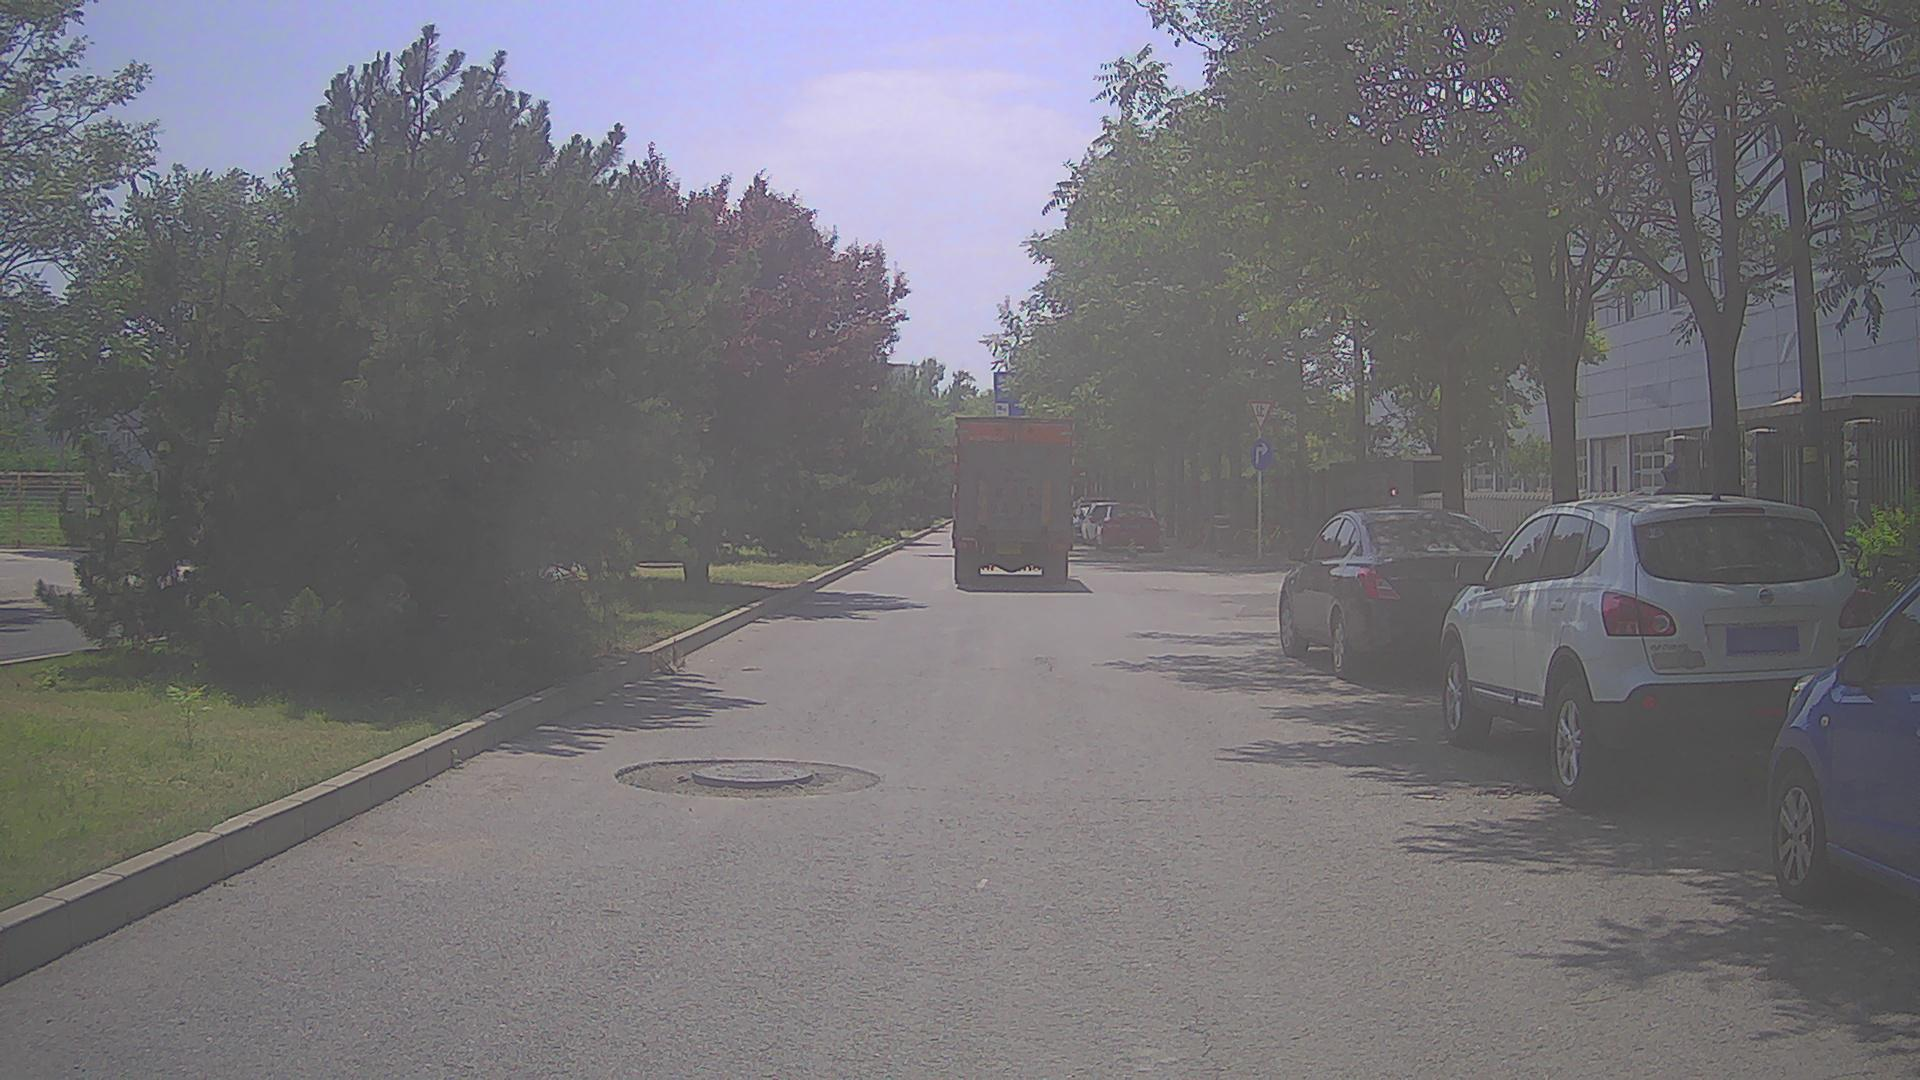car: (1438, 492, 1875, 808), (1278, 506, 1512, 680), (1095, 504, 1161, 550), (1079, 500, 1129, 547)
ignore: (1771, 582, 1918, 908), (1071, 495, 1111, 533)
pedestrian: (1654, 462, 1690, 578)
trafficcone: (1125, 535, 1140, 560)
truck: (950, 415, 1074, 583)
